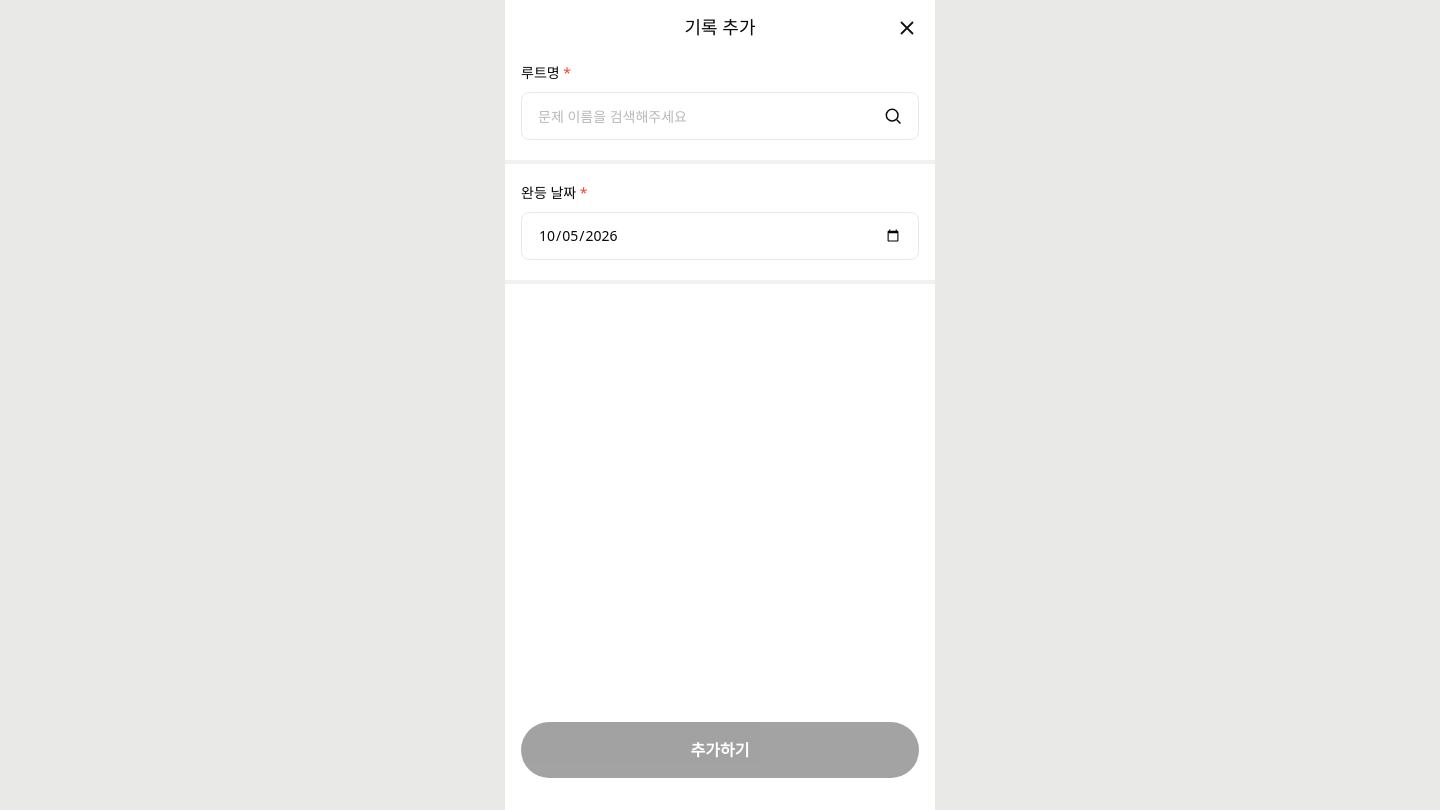
Test: AddRecordDialog › searches and selects a route, revealing rating/media sections
Type "honey" into the field with placeholder "문제 이름을 검색해주세요" at (720, 116), box [521,92,919,140]
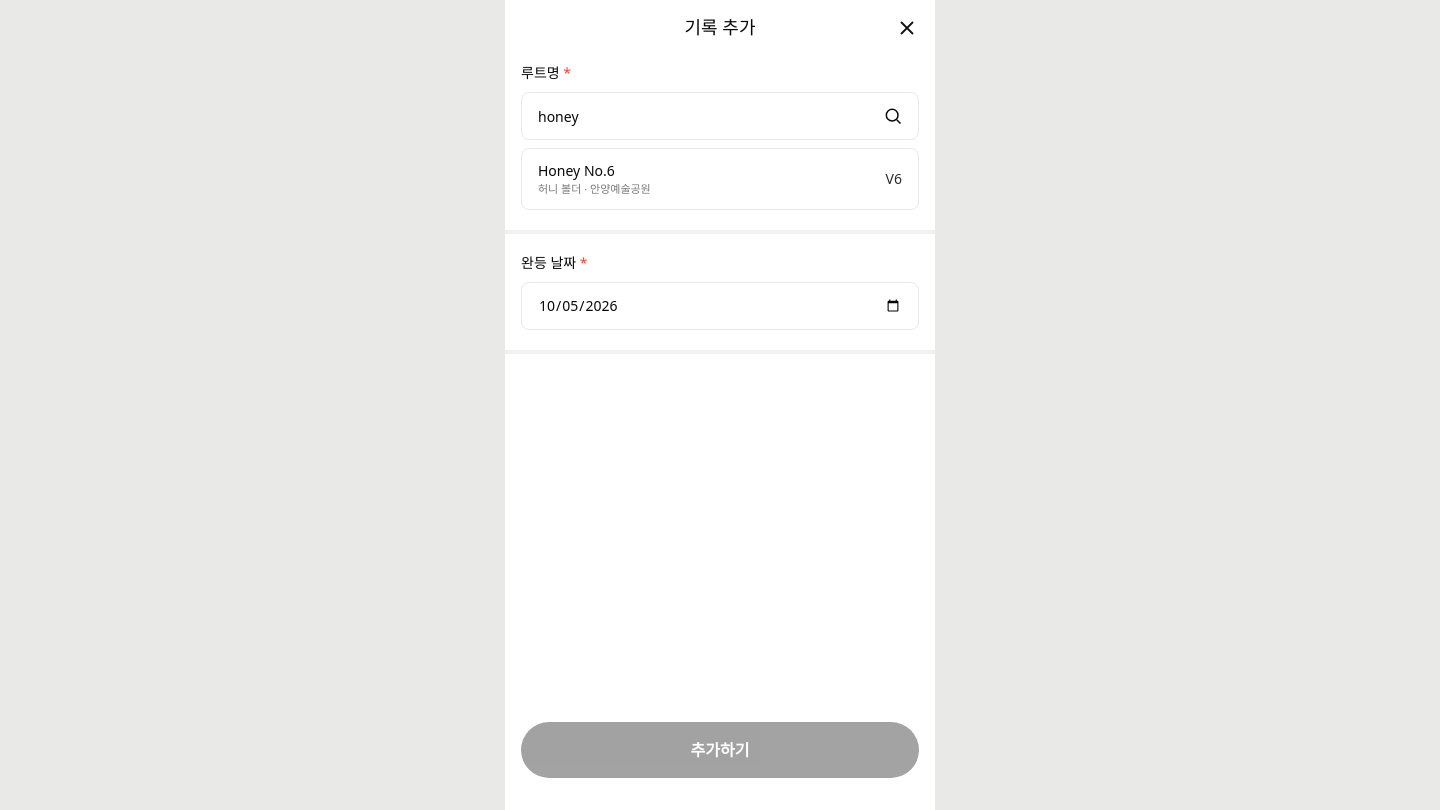
Click the button "Honey No.6 허니 볼더 · 안양예술공원 V6" at (576, 170), box [522,149,918,209]
(page scrolled)
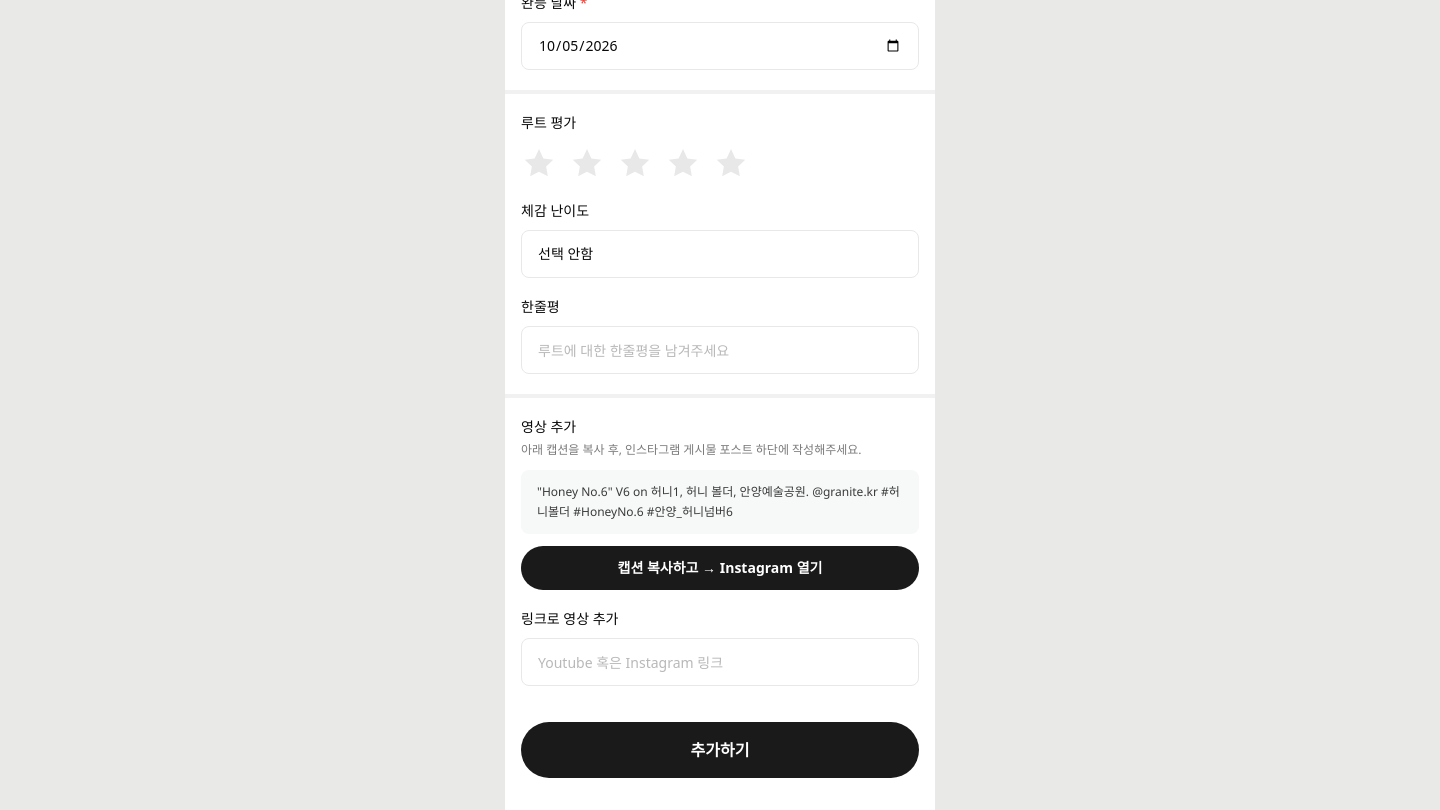
Expected: the heading "루트 평가" is shown, [521,114,576,133]
Expected: the field with placeholder "Youtube 혹은 Instagram 링크" is shown, [521,638,919,686]
Expected: the text "\"Honey No.6\" V6 on 허니1, 허니 볼더, 안양예술공원" is shown, [537,483,900,520]
